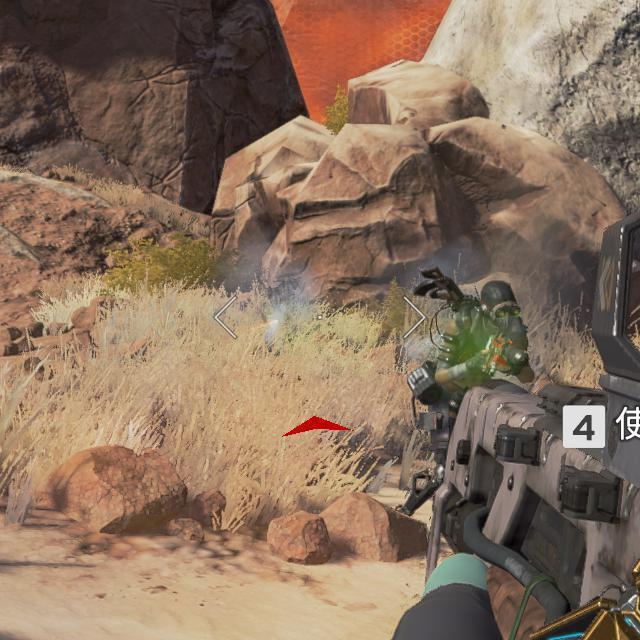avatar: (407, 266, 539, 391)
